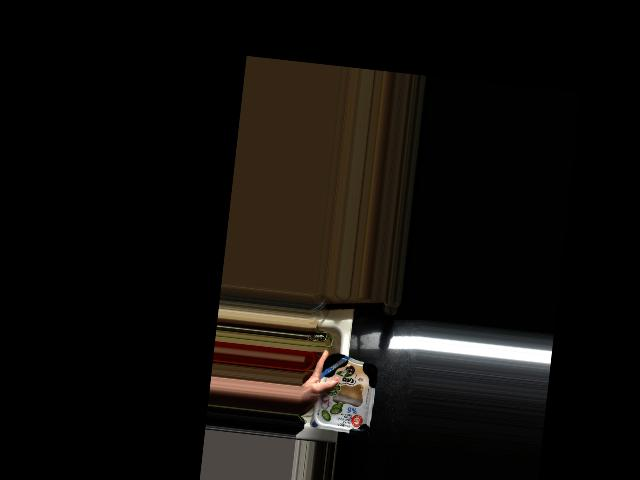cheese: (310, 351, 378, 433)
